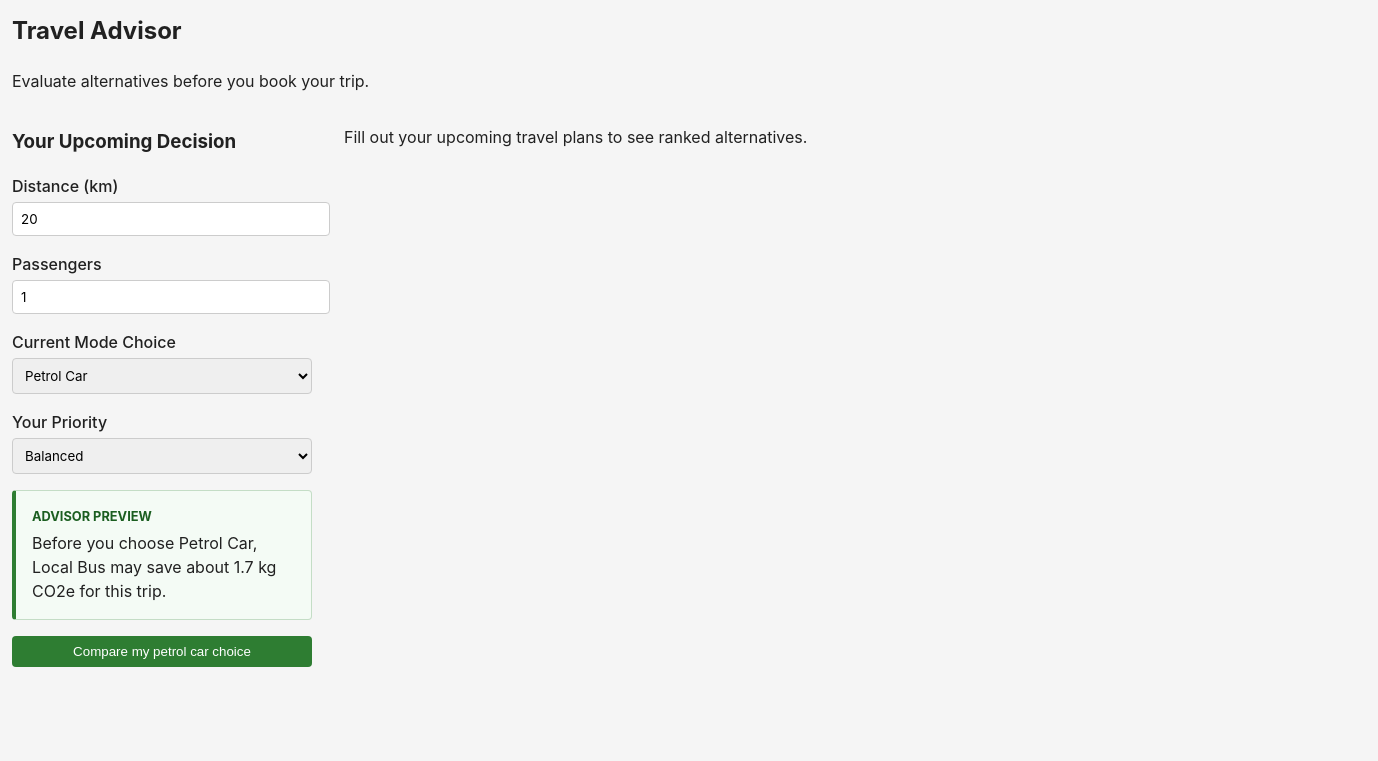
Test: TravelDecisionUI › renders a carbon receipt after submit
This screenshot has width=1378, height=761.
Click the button "Compare my petrol car choice": (162, 651) top-left (12, 636), bottom-right (312, 666)
(page scrolled)
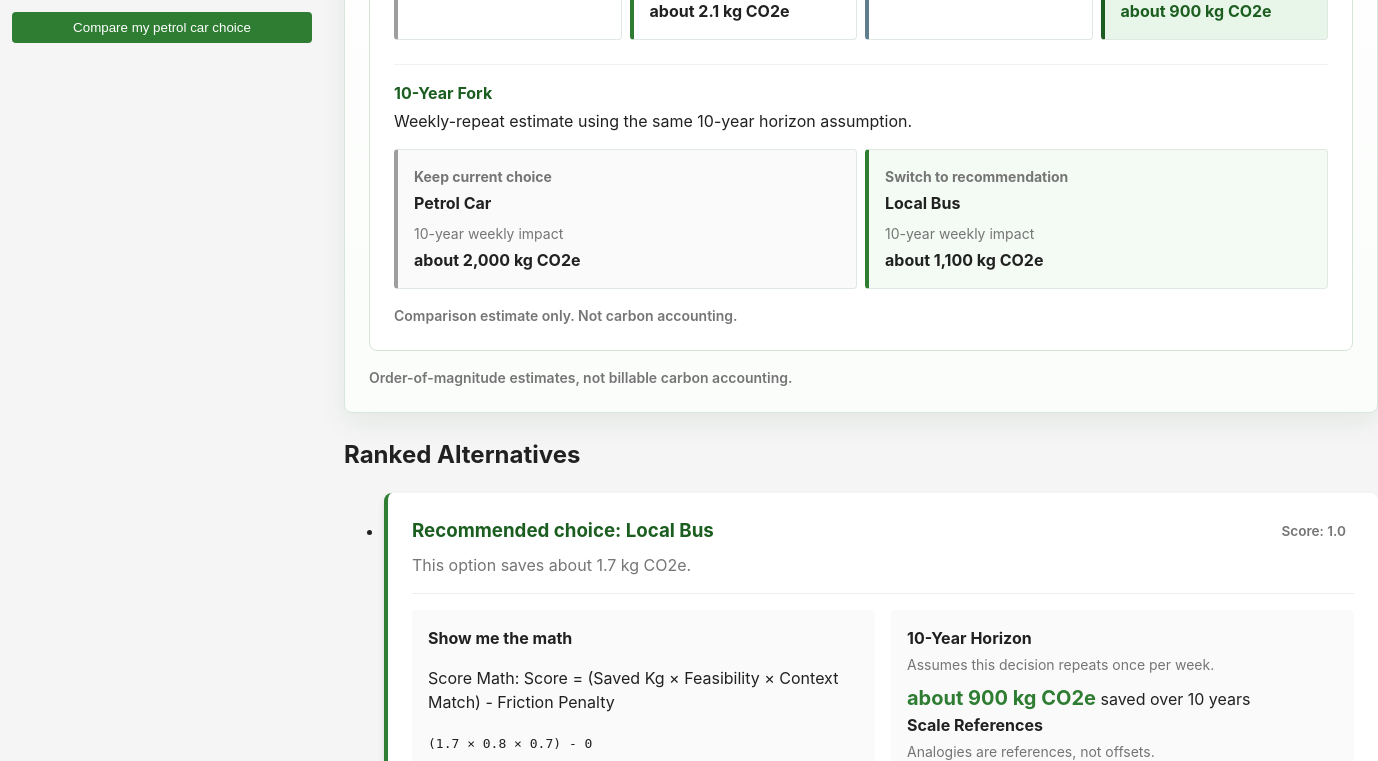
Now the text "Order-of-magnitude estimates, not billable carbon accounting" is shown, box top-left (369, 369), bottom-right (792, 386)
